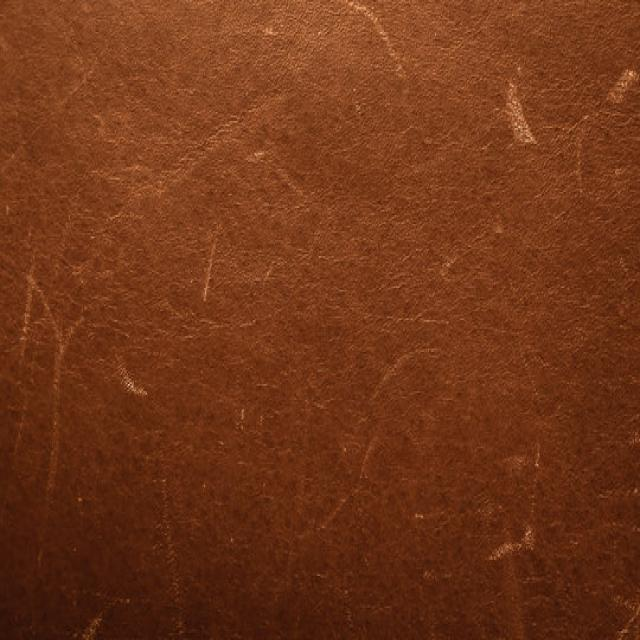Rotten surface: (18, 279, 161, 445), (484, 51, 640, 167)
